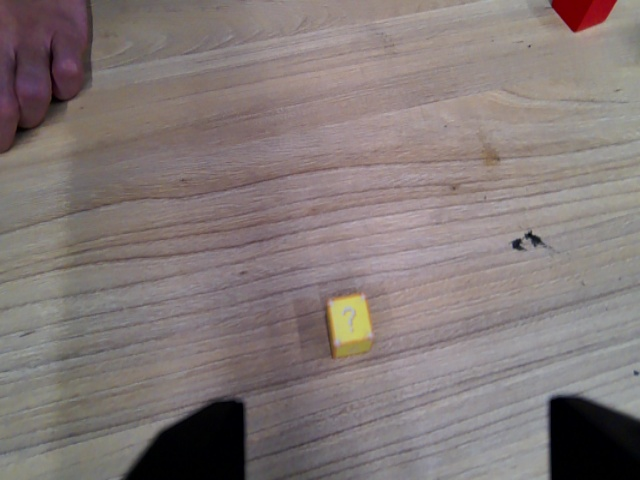lucky: (321, 290, 378, 362)
